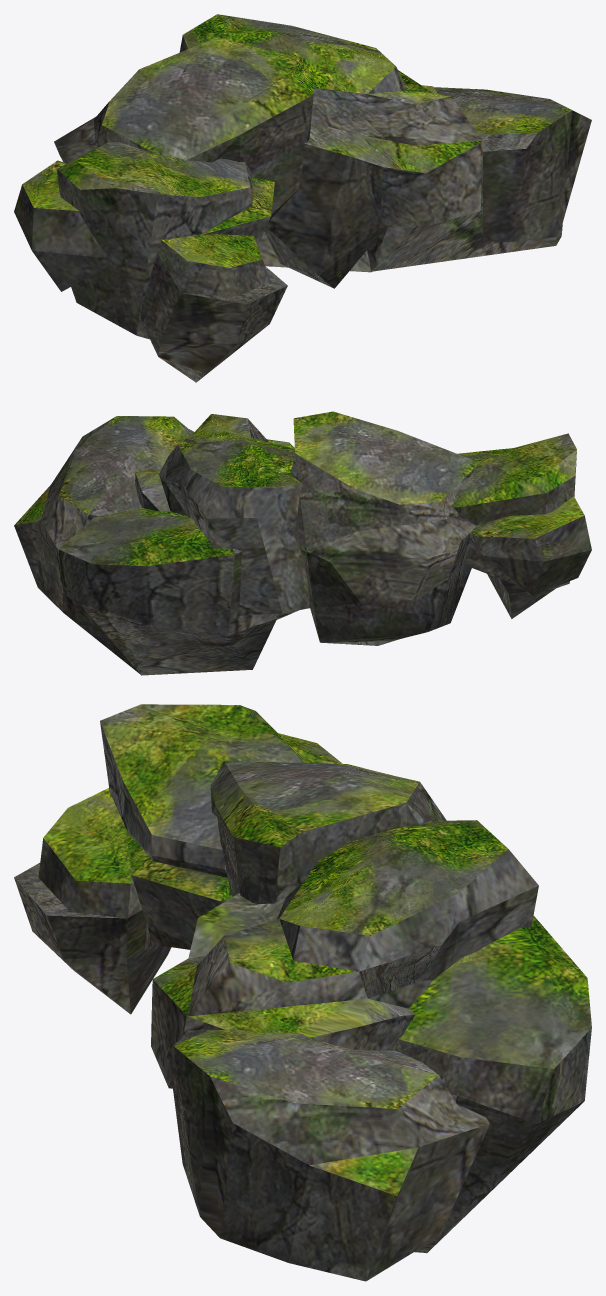
File: S_Rock_Green005.FBX
3 views of the same model, one above another, from view 1: azimuth 30°, elevation 25°; view 2: azimuth 150°, elevation 25°; view 3: azimuth 270°, elevation 25° (orthographic). The views are drawn at different scales.
Parts seen in each view (by area): view 1: green_rock005; view 2: green_rock005; view 3: green_rock005.
Part boxes in pixels (<box>): green_rock005: <box>14,14,591,382</box>; green_rock005: <box>14,411,591,675</box>; green_rock005: <box>14,704,591,1281</box>.
Size of the model in its own units: 775 by 540 by 365.
